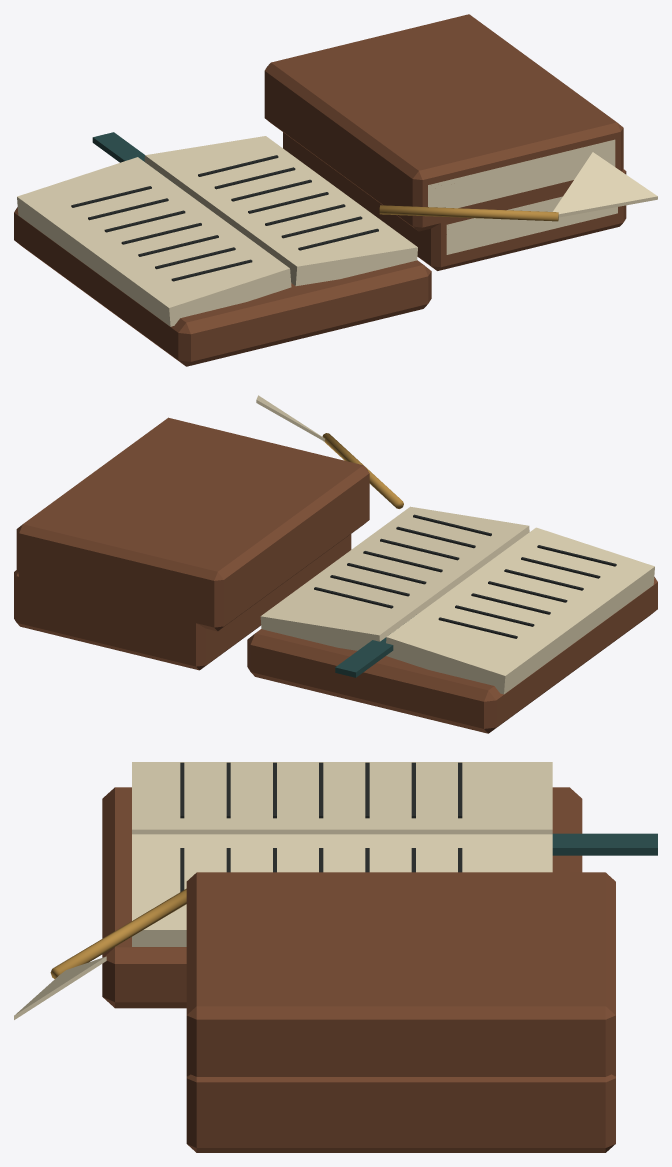
3 renders of one model, top to bottom at view 1: azimuth 30°, elevation 25°; view 2: azimuth 150°, elevation 25°; view 3: azimuth 270°, elevation 25°, orthographic. The views are drawn at different scales.
Visible parts, largest first — view 1: clockshop_leather, clockshop_ivory, clockshop_ink, clockshop_brass, clockshop_teal; view 2: clockshop_leather, clockshop_ivory, clockshop_ink, clockshop_teal, clockshop_brass; view 3: clockshop_leather, clockshop_ivory, clockshop_ink, clockshop_teal, clockshop_brass.
Boxes of the visible parts, x1,y1,x2,y2 form: clockshop_leather: (14,14,626,366); clockshop_ivory: (17,136,657,326); clockshop_ink: (71,155,378,281); clockshop_brass: (379,205,558,221); clockshop_teal: (92,132,144,162); clockshop_leather: (14,417,657,733); clockshop_ivory: (256,395,654,694); clockshop_ink: (314,514,616,638); clockshop_teal: (335,637,393,677); clockshop_brass: (322,433,403,508); clockshop_leather: (102,787,615,1152); clockshop_ivory: (14,762,552,1019); clockshop_ink: (180,762,462,891); clockshop_teal: (552,833,657,855); clockshop_brass: (50,888,186,978).
Size of the model in its own units: 0.911 by 0.215 by 0.765.
